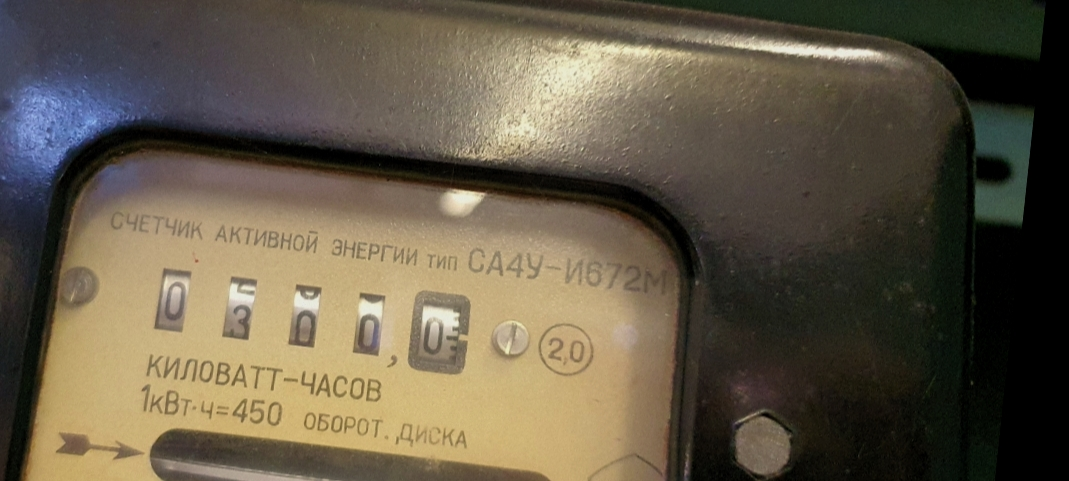0: (351, 311, 381, 357), (415, 314, 445, 359), (158, 277, 186, 325), (288, 307, 315, 350)
3: (224, 301, 251, 342)
screen: (128, 243, 492, 395)
